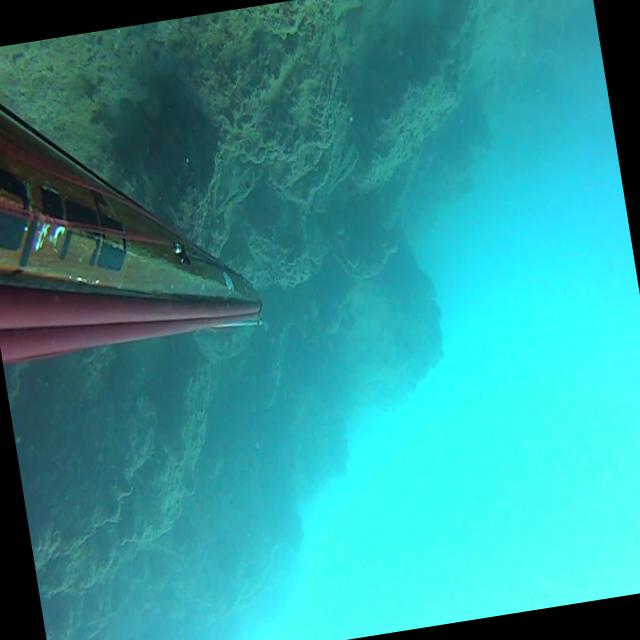Balon Baligi: (320, 142, 365, 196), (212, 168, 260, 214)
